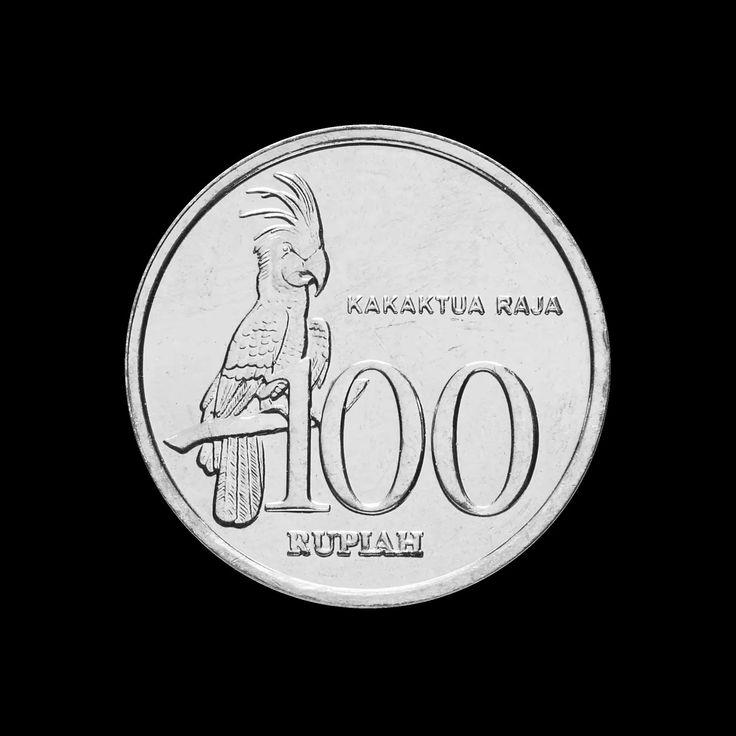coin_100_e1999: (110, 113, 628, 625)
